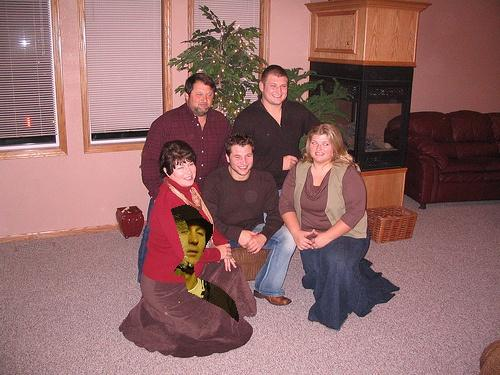tampered: (172, 205, 239, 322)
